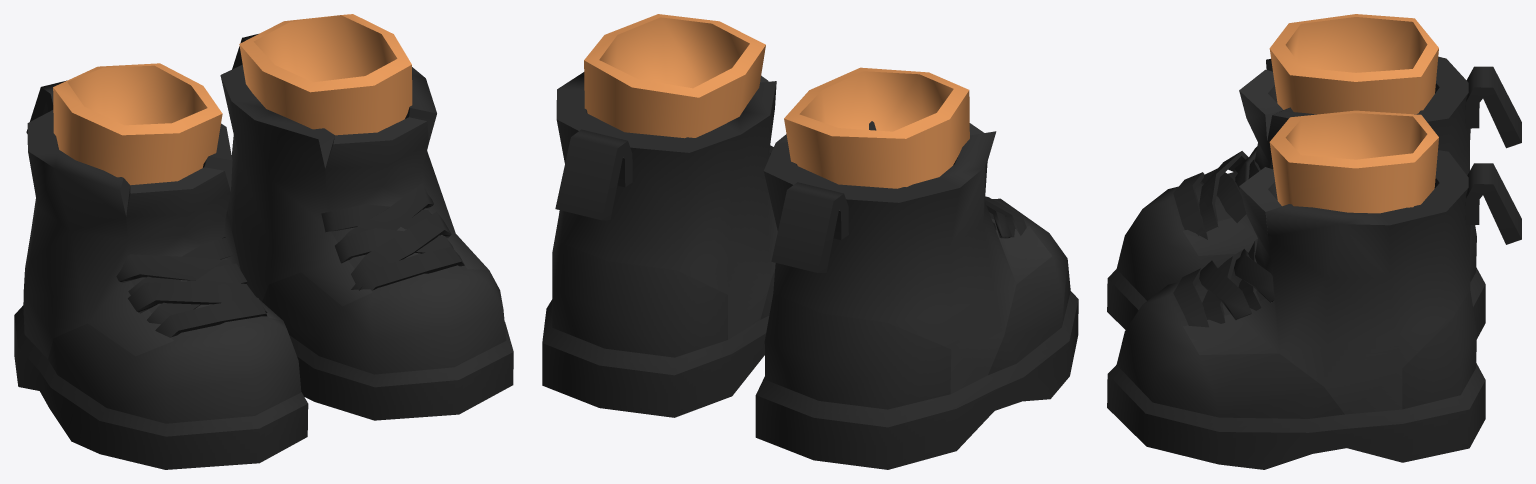
File: Shoes_16.fbx
3 views of the same model, side by side, from view 1: azimuth 30°, elevation 25°; view 2: azimuth 150°, elevation 25°; view 3: azimuth 270°, elevation 25° (orthographic). The views are drawn at different scales.
Parts seen in each view (by area): view 1: Shoes_16; view 2: Shoes_16; view 3: Shoes_16.
Part boxes in pixels (x1,y1,x2,y2): Shoes_16: (14,14,513,469); Shoes_16: (542,14,1078,469); Shoes_16: (1107,14,1521,469).
Bounding box in the file's own units: 43.49 × 28.76 × 38.13.
